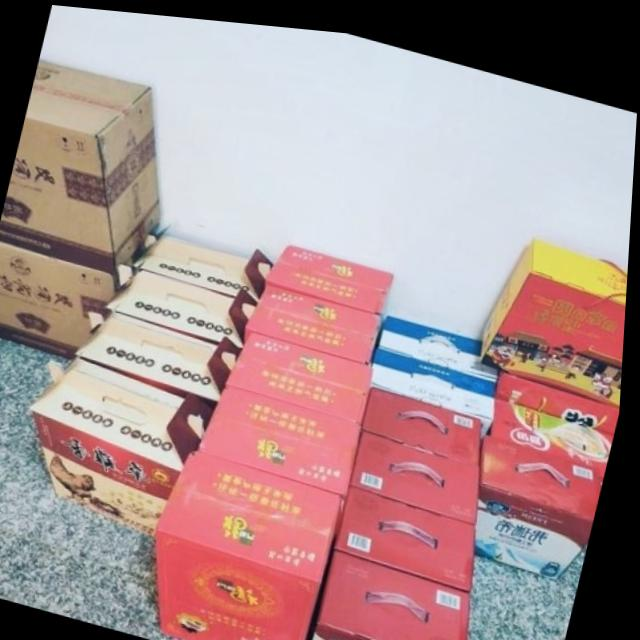box: (157, 445, 350, 640), (34, 352, 220, 532), (3, 60, 162, 255), (481, 226, 630, 394), (0, 213, 162, 354), (202, 379, 367, 487), (479, 422, 602, 566), (313, 544, 476, 640), (77, 306, 243, 396), (339, 476, 481, 581), (226, 323, 374, 415), (354, 421, 487, 512), (112, 265, 260, 340), (373, 338, 499, 422), (247, 277, 384, 353), (497, 388, 618, 460), (269, 238, 396, 306), (367, 380, 485, 453), (136, 232, 276, 292), (380, 306, 504, 371), (498, 358, 623, 419)
